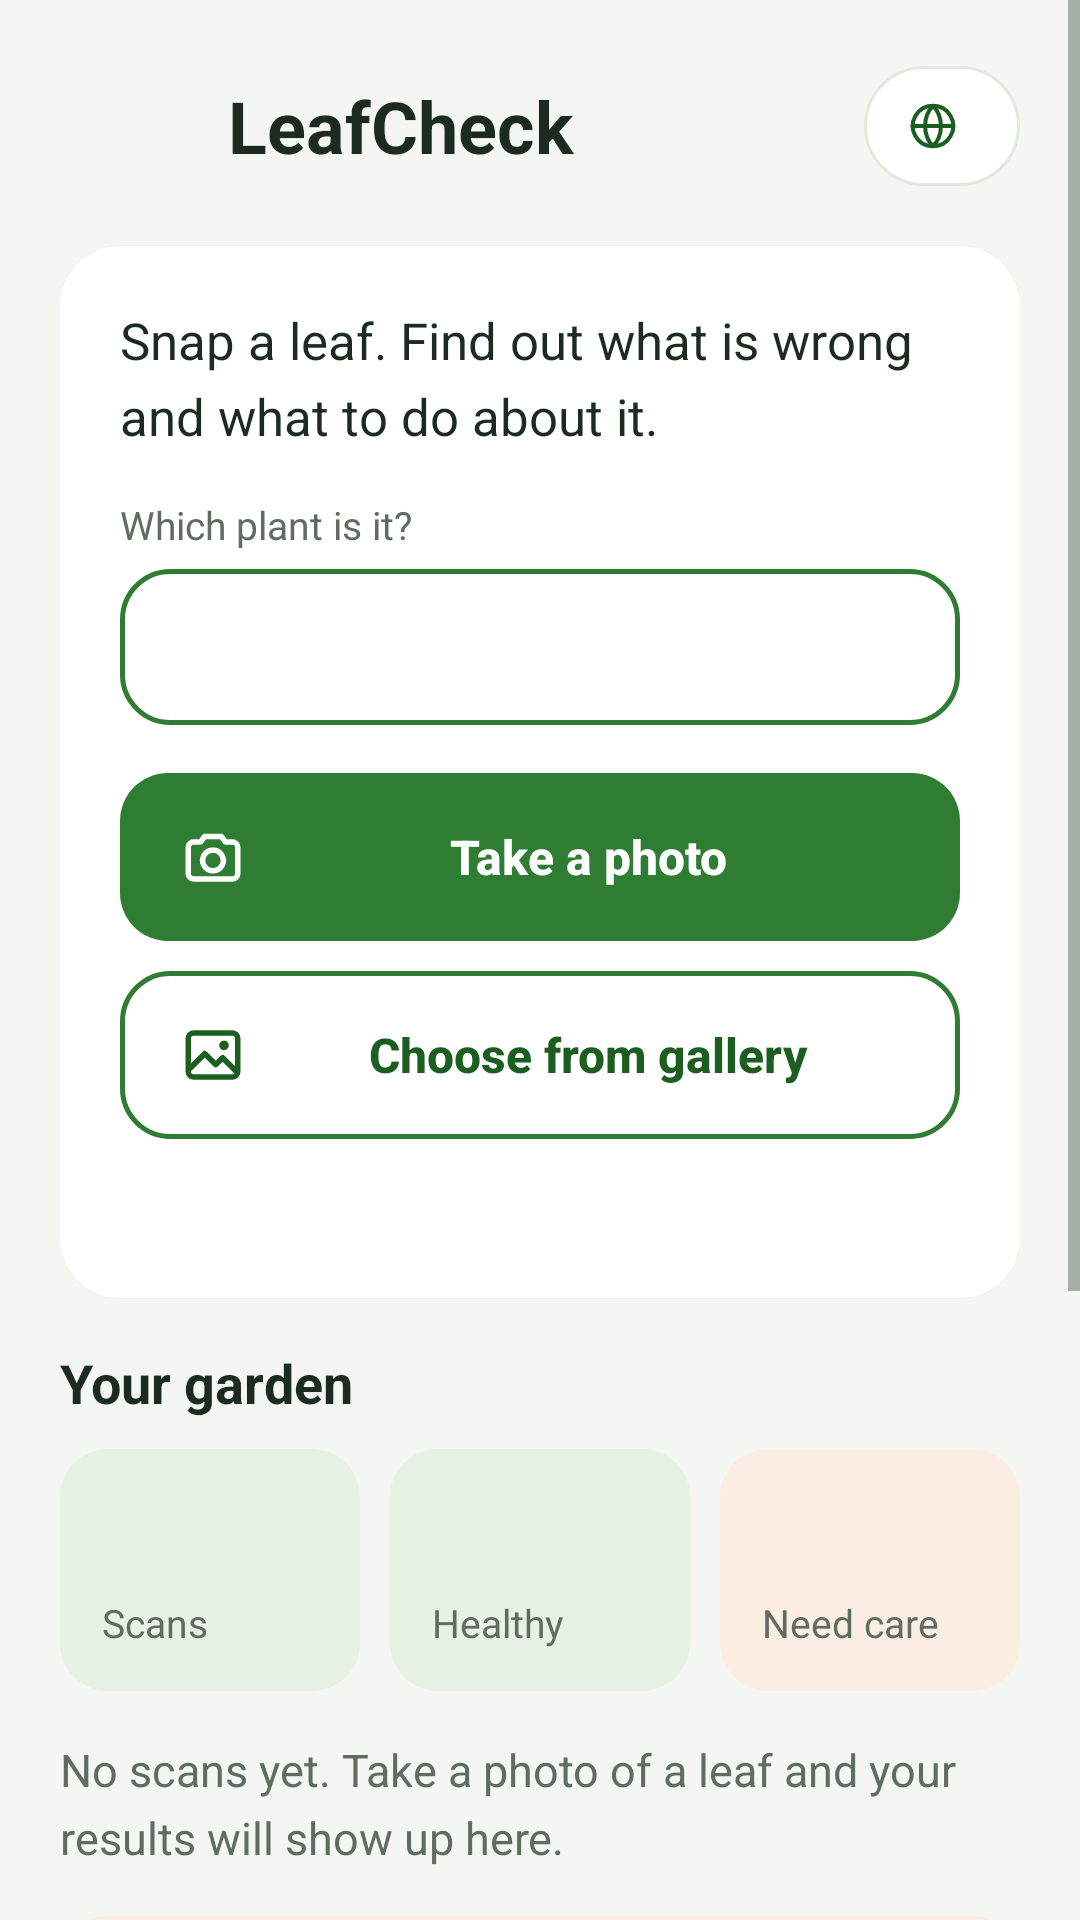

Icon click points for this 1080px x 1920px phone screenshot, format point (x, y):
Language: point (942, 126)
